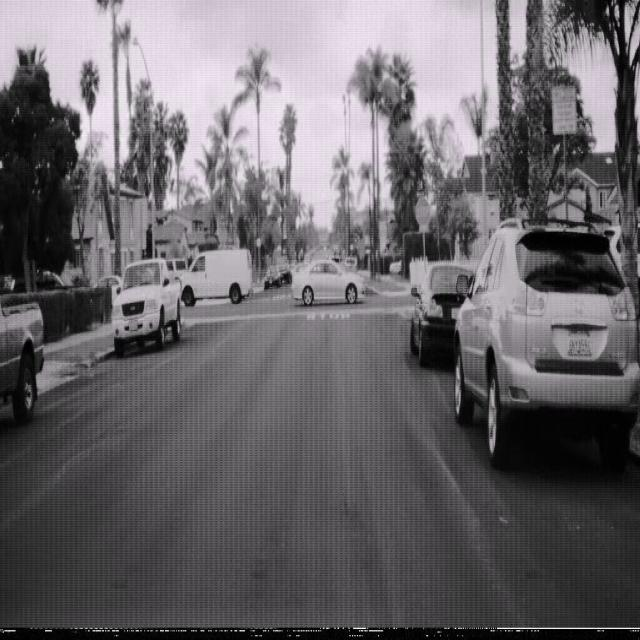stop: (414, 195, 432, 228)
